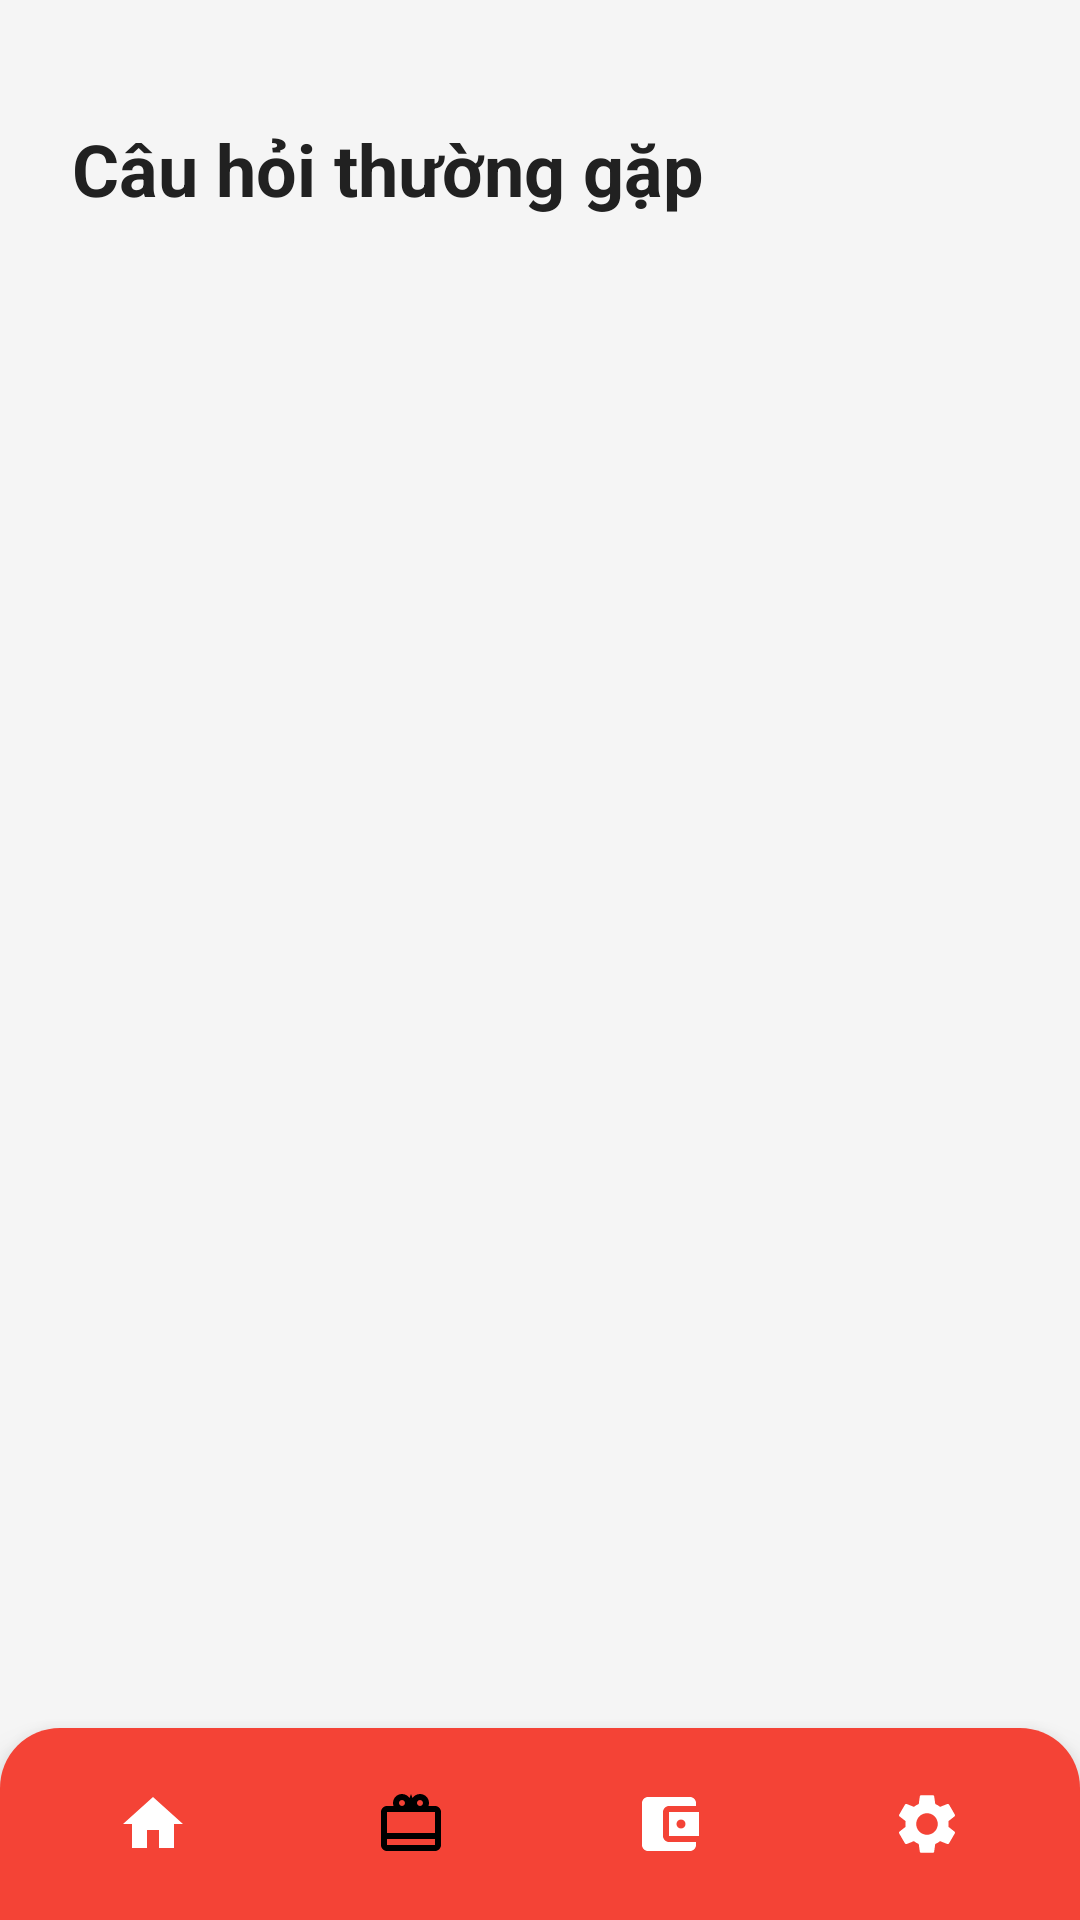

Named icons in this screenshot (1080w x 1920h) and their centers, point (x, y):
Home: point (153, 1822)
Settings: point (927, 1824)
Wallet: point (670, 1824)
